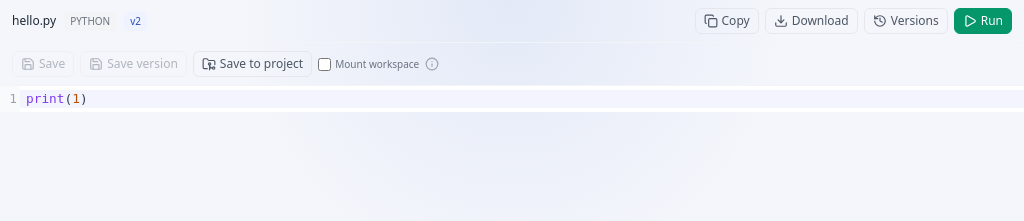
Test: CodeWorkbench on a code view › runs the draft against the view and shows the output
Click the button "Run" at (983, 21), box [954, 8, 1012, 34]
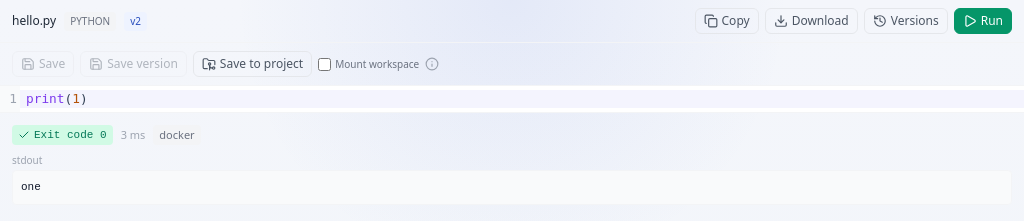
Expected: the text "one" is shown, [12, 170, 1012, 205]
